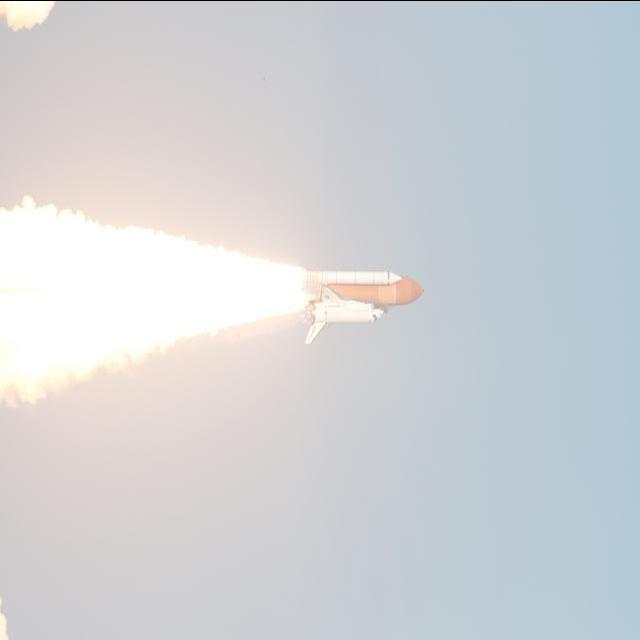missile: (292, 269, 418, 333)
